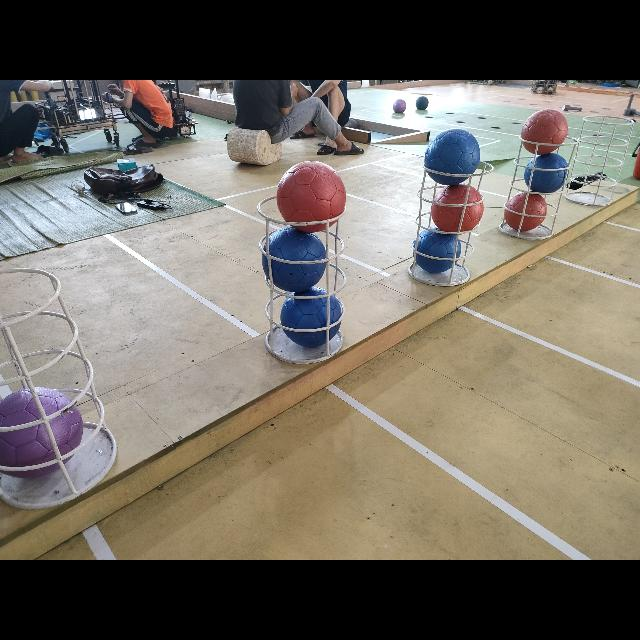B: (262, 225, 328, 292), (280, 288, 342, 348), (424, 127, 482, 185), (414, 227, 461, 273), (524, 153, 570, 193)
R: (276, 161, 346, 231), (432, 185, 483, 233), (521, 108, 567, 154), (503, 192, 547, 230)
